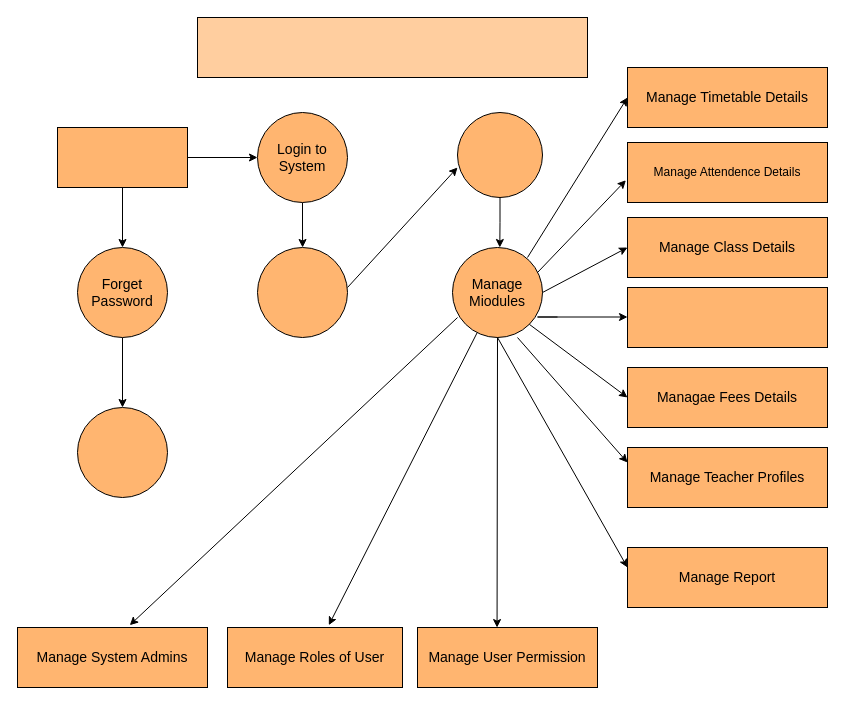
Image size: 845x705. Some labels were removed from this diagram. Here are the shapes that lost their labels. From the top down, the centre of each, then its label:
pixel 392 47: Student Information System
pixel 122 157: Admin
pixel 499 155: Check Roles of Access
pixel 302 292: Check Credentials
pixel 727 317: Manage Student details
pixel 122 452: Send Email to User
